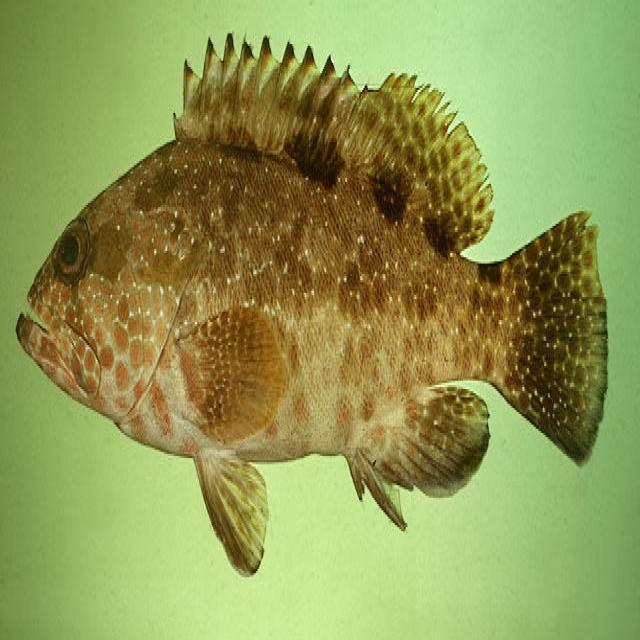ikan: (15, 30, 609, 578)
